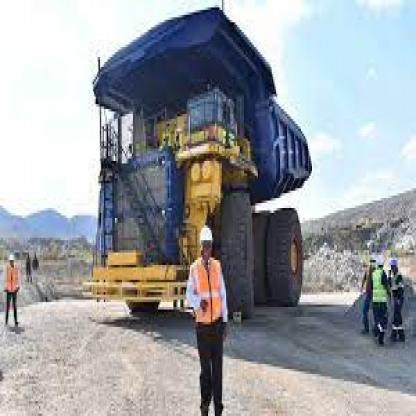dump_truck: (80, 0, 315, 332)
person: (186, 218, 240, 399), (363, 243, 391, 344), (387, 248, 409, 344), (359, 245, 380, 342), (2, 243, 24, 329)
